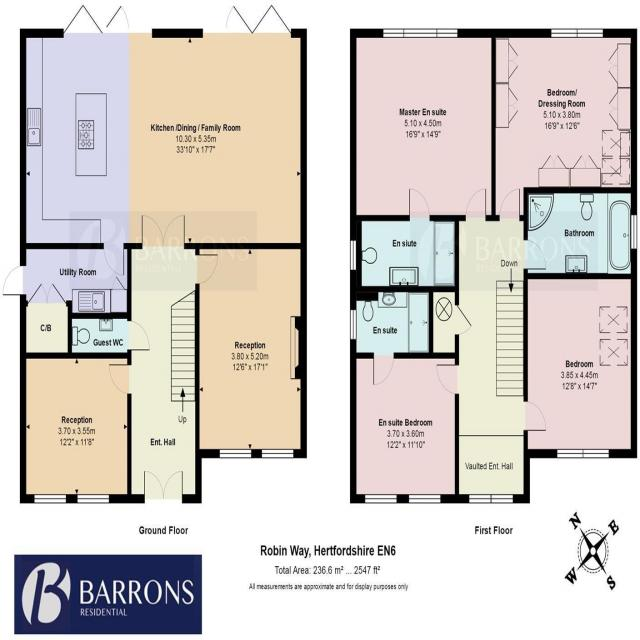DOOR: (194, 253, 219, 286), (108, 363, 132, 396), (127, 319, 151, 352), (102, 243, 125, 277), (523, 400, 547, 432), (435, 363, 459, 395), (2, 265, 26, 297), (372, 352, 394, 386), (465, 188, 487, 222), (408, 187, 430, 221), (523, 239, 546, 271), (499, 188, 520, 221)
DOUBLE DOOR: (140, 212, 186, 250)
FOLDING DOOR: (59, 0, 154, 40), (200, 1, 292, 38)
ROOM: (19, 1, 308, 251), (491, 28, 637, 221), (350, 29, 496, 221), (195, 243, 307, 459), (523, 273, 637, 459), (20, 352, 132, 504), (350, 352, 459, 504)
WINDOW: (382, 28, 458, 38), (556, 448, 610, 459), (469, 493, 513, 504), (551, 29, 603, 38), (364, 493, 398, 504), (408, 493, 442, 504), (219, 448, 252, 459), (261, 448, 294, 459), (34, 493, 67, 504), (77, 494, 110, 504), (630, 214, 638, 250), (349, 240, 357, 271), (350, 309, 357, 341)
